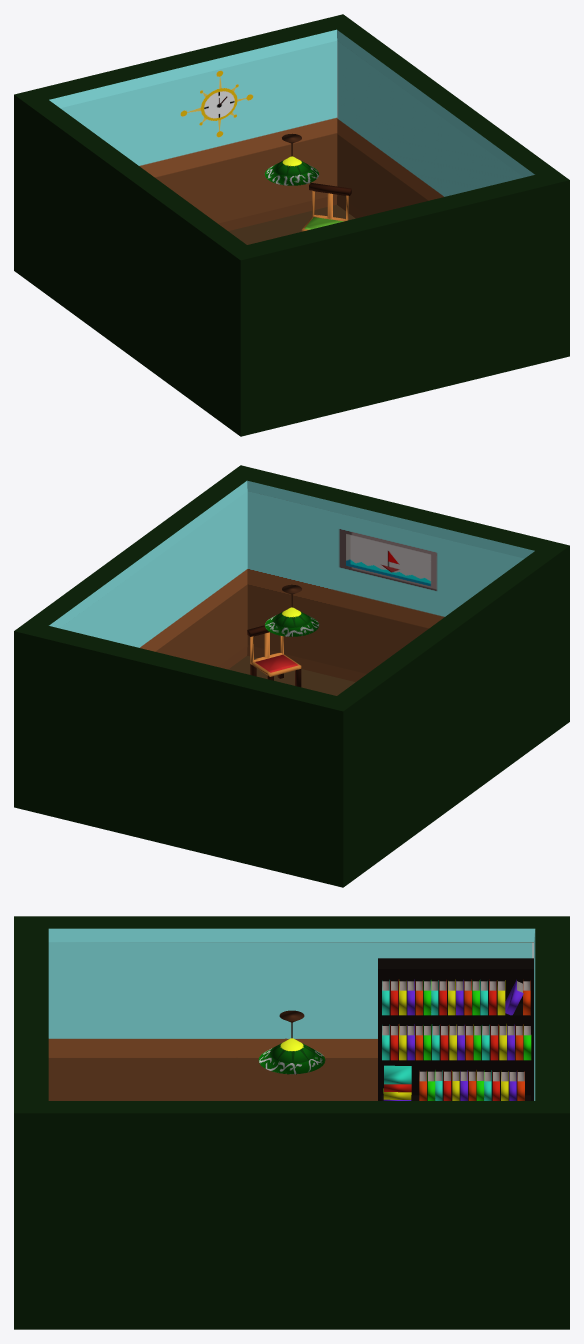
Rendered from Room.obj.
The picture shows the model from 3 angles, top to bottom: view 1: azimuth 30°, elevation 25°; view 2: azimuth 150°, elevation 25°; view 3: azimuth 270°, elevation 25°; orthographic projection. The views are drawn at different scales.
Visible parts, largest first — view 1: Floor_Cube, Cone, Chair_1_Cube.001; view 2: Floor_Cube, Chair_2_Cube.003, Cone; view 3: Floor_Cube, Book_Shelf_Cube.004, Cone, Book_2.006_Cube.045.
Part boxes in pixels (left/top/right/bottom): Floor_Cube: left=14, top=14, right=569, bottom=436; Cone: left=264, top=133, right=318, bottom=185; Chair_1_Cube.001: left=301, top=182, right=351, bottom=231; Floor_Cube: left=14, top=465, right=569, bottom=887; Chair_2_Cube.003: left=247, top=625, right=301, bottom=687; Cone: left=265, top=584, right=319, bottom=636; Floor_Cube: left=14, top=916, right=569, bottom=1329; Book_Shelf_Cube.004: left=378, top=958, right=533, bottom=1100; Cone: left=258, top=1010, right=325, bottom=1074; Book_2.006_Cube.045: left=384, top=1065, right=411, bottom=1084.
Bounding box in the file's own units: 33.69 × 17.23 × 40.17.
